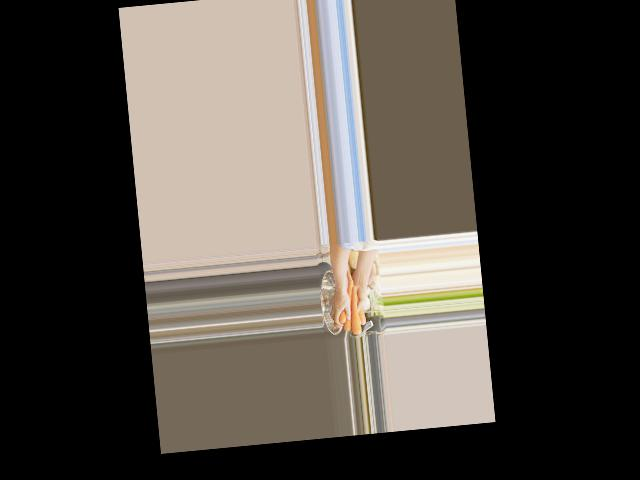carrot: (340, 277, 359, 332)
